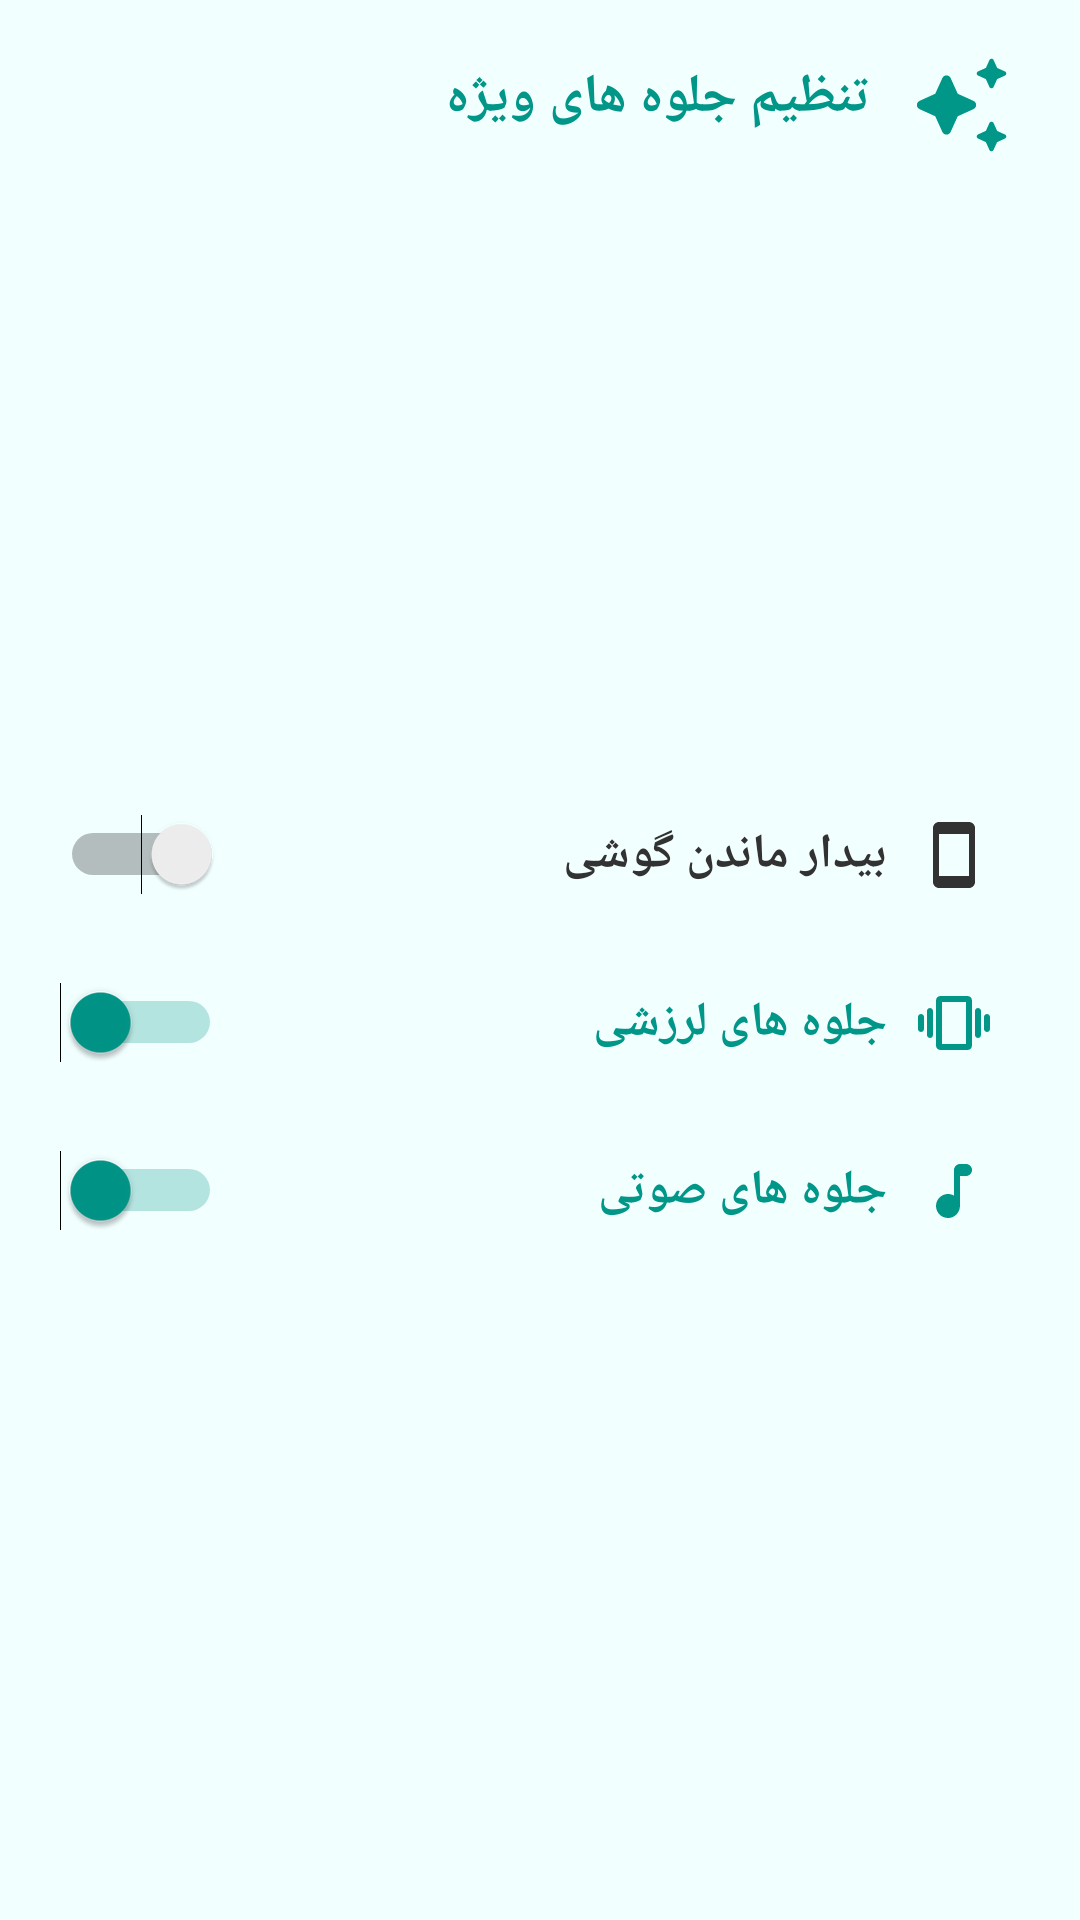

Icons on this 1080x1920 Android screen, each with its box as (x1, y1, x2, y2):
keep screen on disable: (933, 822, 975, 888)
music effects: (936, 1164, 972, 1218)
vibration effects: (918, 996, 990, 1050)
visual effects: (917, 58, 1007, 152)
